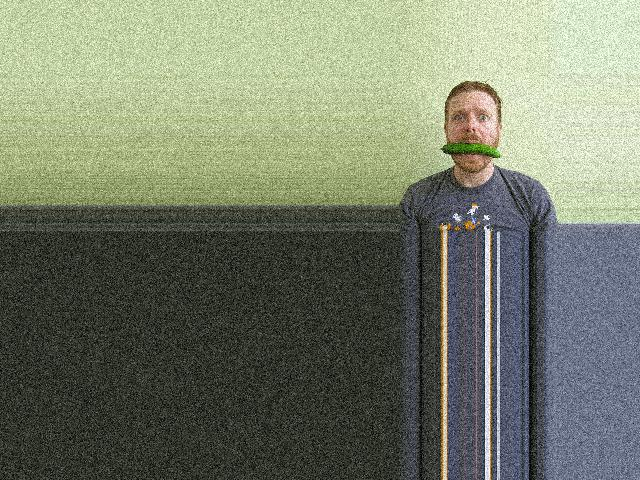cucumber: (440, 143, 501, 158)
